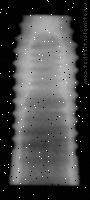Biomet 3i: (9, 14, 80, 186)
